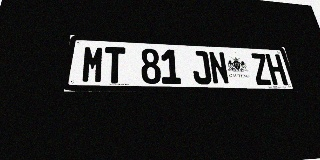1: (160, 49, 181, 84)
8: (141, 48, 161, 84)
H: (265, 54, 288, 85)
J: (190, 50, 212, 84)
M: (81, 46, 105, 83)
N: (208, 51, 230, 85)
T: (104, 47, 125, 84)
Z: (250, 53, 273, 85)
